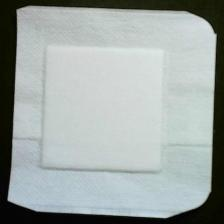Cut: (8, 5, 219, 220)
